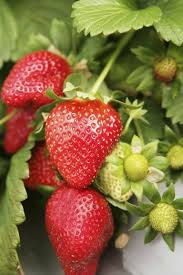ripe: (43, 90, 122, 193), (41, 179, 119, 273), (0, 50, 75, 108), (20, 136, 68, 195), (2, 96, 42, 158)
unripe: (148, 204, 178, 235), (121, 148, 148, 181), (153, 53, 178, 84), (164, 145, 183, 172)
